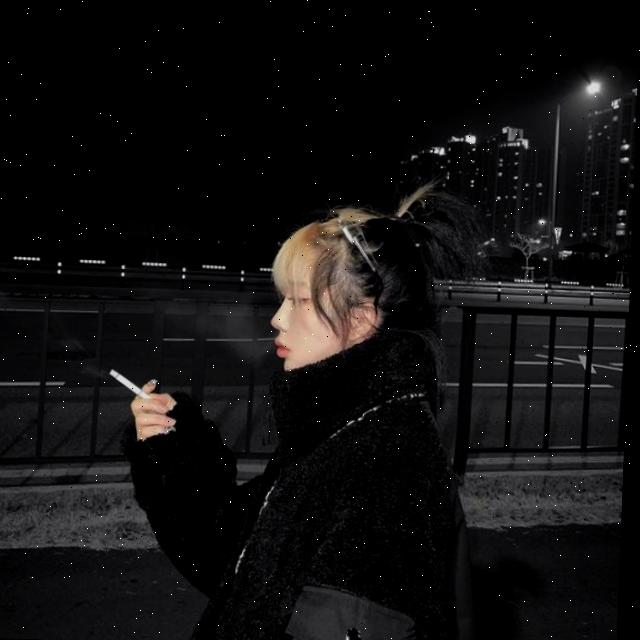cigarette: (112, 368, 152, 396)
